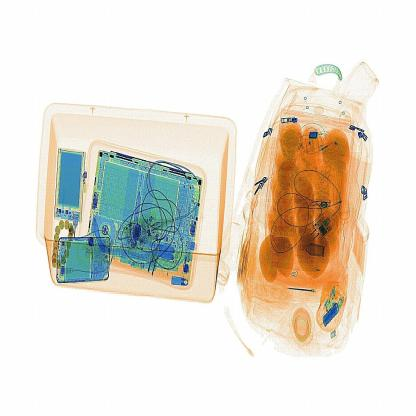wrench: (287, 282, 324, 301)
